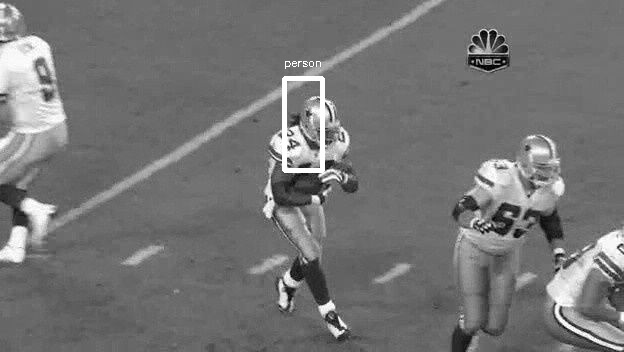person: (302, 97, 339, 145), (301, 97, 338, 145), (303, 97, 340, 145), (302, 96, 339, 144), (302, 98, 339, 146)
target_negative: (198, 138, 595, 232), (41, 52, 532, 100), (596, 172, 618, 313), (562, 260, 577, 299), (297, 89, 306, 149), (618, 37, 623, 100)
